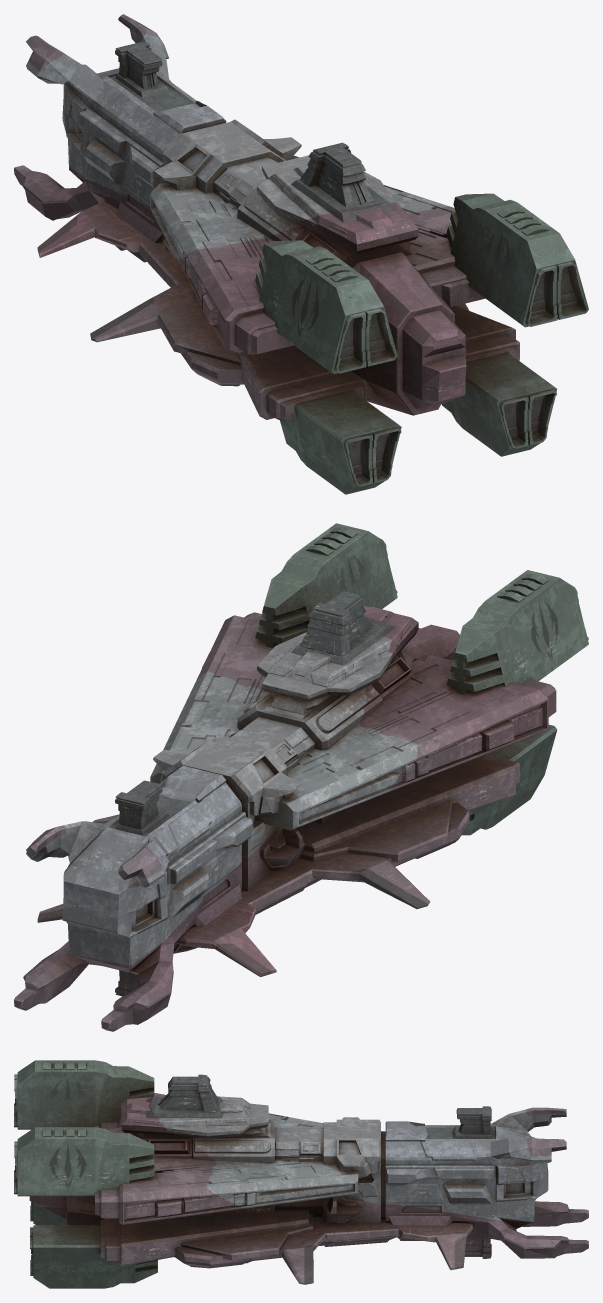
File: KDK_Enemy_Starship01.fbx
3 views of the same model, one above another, from view 1: azimuth 30°, elevation 25°; view 2: azimuth 150°, elevation 25°; view 3: azimuth 270°, elevation 25° (orthographic). The views are drawn at different scales.
Visible parts, largest first — view 1: KDK_SpaceShip_LowPolyThrusters_Cube.038, KDK_SpaceShip_HullWingsb_Cube.050, KDK_SpaceShip_Hull_Cube.039, KDK_SpaceShip_Hull_Head_Cube.005, KDK_SpaceShip_Hull_Tower02_Cube.053; view 2: KDK_SpaceShip_HullWingsb_Cube.050, KDK_SpaceShip_Hull_Head_Cube.005, KDK_SpaceShip_Hull_Cube.039, KDK_SpaceShip_LowPolyThrusters_Cube.038, KDK_SpaceShip_Hull_Tower02_Cube.053; view 3: KDK_SpaceShip_HullWingsb_Cube.050, KDK_SpaceShip_LowPolyThrusters_Cube.038, KDK_SpaceShip_Hull_Head_Cube.005, KDK_SpaceShip_Hull_Cube.039, KDK_SpaceShip_Hull_Tower02_Cube.053.
Boxes of the visible parts, left/top/right/bottom form: KDK_SpaceShip_LowPolyThrusters_Cube.038: left=255, top=193, right=588, bottom=494; KDK_SpaceShip_HullWingsb_Cube.050: left=90, top=155, right=519, bottom=420; KDK_SpaceShip_Hull_Cube.039: left=37, top=119, right=466, bottom=415; KDK_SpaceShip_Hull_Head_Cube.005: left=14, top=14, right=226, bottom=242; KDK_SpaceShip_Hull_Tower02_Cube.053: left=109, top=41, right=395, bottom=262; KDK_SpaceShip_HullWingsb_Cube.050: left=93, top=612, right=556, bottom=914; KDK_SpaceShip_Hull_Head_Cube.005: left=14, top=765, right=252, bottom=1031; KDK_SpaceShip_Hull_Cube.039: left=37, top=605, right=459, bottom=976; KDK_SpaceShip_LowPolyThrusters_Cube.038: left=255, top=523, right=588, bottom=835; KDK_SpaceShip_Hull_Tower02_Cube.053: left=111, top=591, right=395, bottom=996; KDK_SpaceShip_HullWingsb_Cube.050: left=95, top=1093, right=399, bottom=1284; KDK_SpaceShip_LowPolyThrusters_Cube.038: left=14, top=1060, right=157, bottom=1288; KDK_SpaceShip_Hull_Head_Cube.005: left=385, top=1107, right=588, bottom=1258; KDK_SpaceShip_Hull_Cube.039: left=29, top=1096, right=472, bottom=1270; KDK_SpaceShip_Hull_Tower02_Cube.053: left=145, top=1074, right=495, bottom=1258.
Size of the model in its own units: 221 by 157 by 458.
